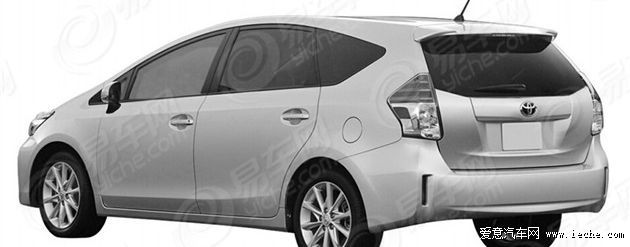front_view: (1, 53, 159, 131)
headlight: (103, 58, 156, 80)
side_glass: (183, 5, 246, 47)
